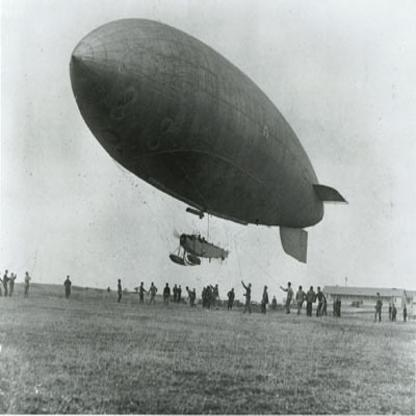Airship: (67, 16, 350, 271)
